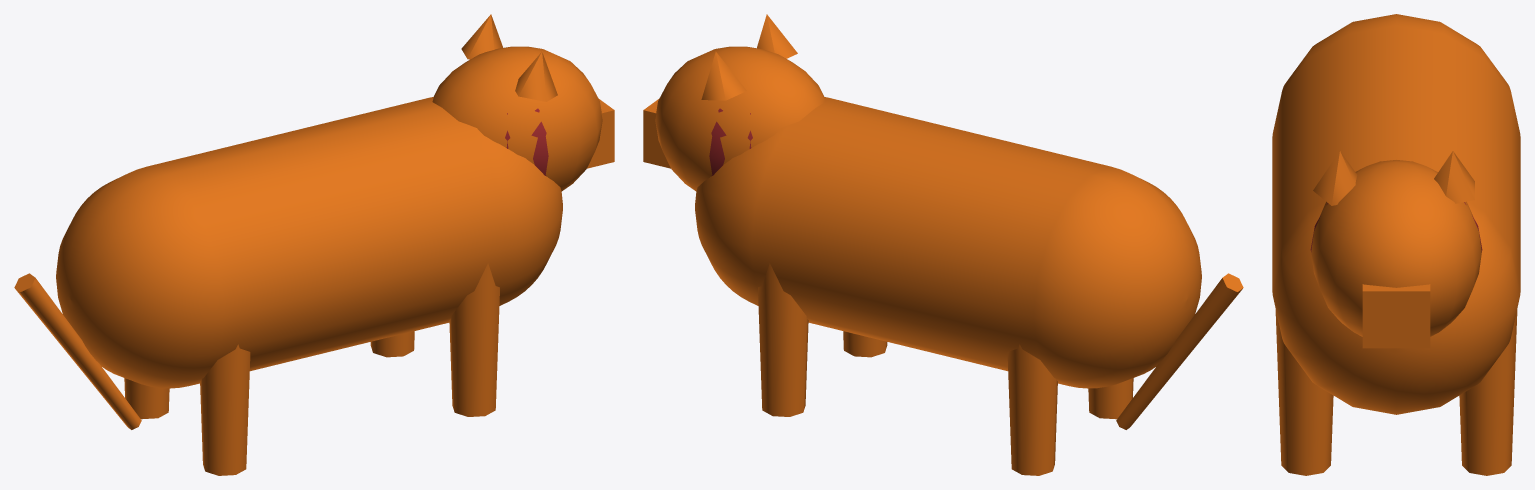
Rendered from panthera-tigris.glb.
3 views of the same model, side by side, from view 1: azimuth 30°, elevation 25°; view 2: azimuth 150°, elevation 25°; view 3: azimuth 270°, elevation 25° (orthographic). The views are drawn at different scales.
Visible parts, largest first — view 1: skin_body, skin_head, skin_leg_0, skin_leg_2, skin_tail, skin_outer, skin_leg_3, skin_snout, skin_leg_1, muscle_body; view 2: skin_body, skin_head, skin_leg_1, skin_leg_3, skin_tail, skin_outer, skin_leg_2, skin_snout, skin_leg_0, muscle_body; view 3: skin_body, skin_head, skin_leg_0, skin_leg_1, skin_snout, skin_outer.
Part boxes in pixels (bbox=[...]): skin_body: bbox=[56, 97, 562, 388]; skin_head: bbox=[432, 46, 602, 191]; skin_leg_0: bbox=[449, 263, 499, 416]; skin_leg_2: bbox=[200, 344, 250, 475]; skin_tail: bbox=[14, 273, 141, 429]; skin_outer: bbox=[461, 14, 557, 101]; skin_leg_3: bbox=[124, 378, 169, 419]; skin_snout: bbox=[587, 99, 614, 168]; skin_leg_1: bbox=[370, 331, 414, 357]; muscle_body: bbox=[505, 108, 548, 176]; skin_body: bbox=[695, 97, 1201, 388]; skin_head: bbox=[655, 46, 825, 191]; skin_leg_1: bbox=[758, 263, 808, 416]; skin_leg_3: bbox=[1007, 344, 1057, 475]; skin_tail: bbox=[1116, 273, 1243, 429]; skin_outer: bbox=[701, 14, 797, 100]; skin_leg_2: bbox=[1088, 378, 1133, 419]; skin_snout: bbox=[643, 99, 670, 168]; skin_leg_0: bbox=[843, 331, 887, 357]; muscle_body: bbox=[709, 108, 752, 176]; skin_body: bbox=[1272, 14, 1520, 414]; skin_head: bbox=[1311, 160, 1481, 336]; skin_leg_0: bbox=[1275, 309, 1333, 475]; skin_leg_1: bbox=[1459, 309, 1517, 475]; skin_snout: bbox=[1362, 284, 1430, 348]; skin_outer: bbox=[1313, 151, 1474, 205].
Size of the model in its own units: 3.29 by 1.76 by 1.1.
